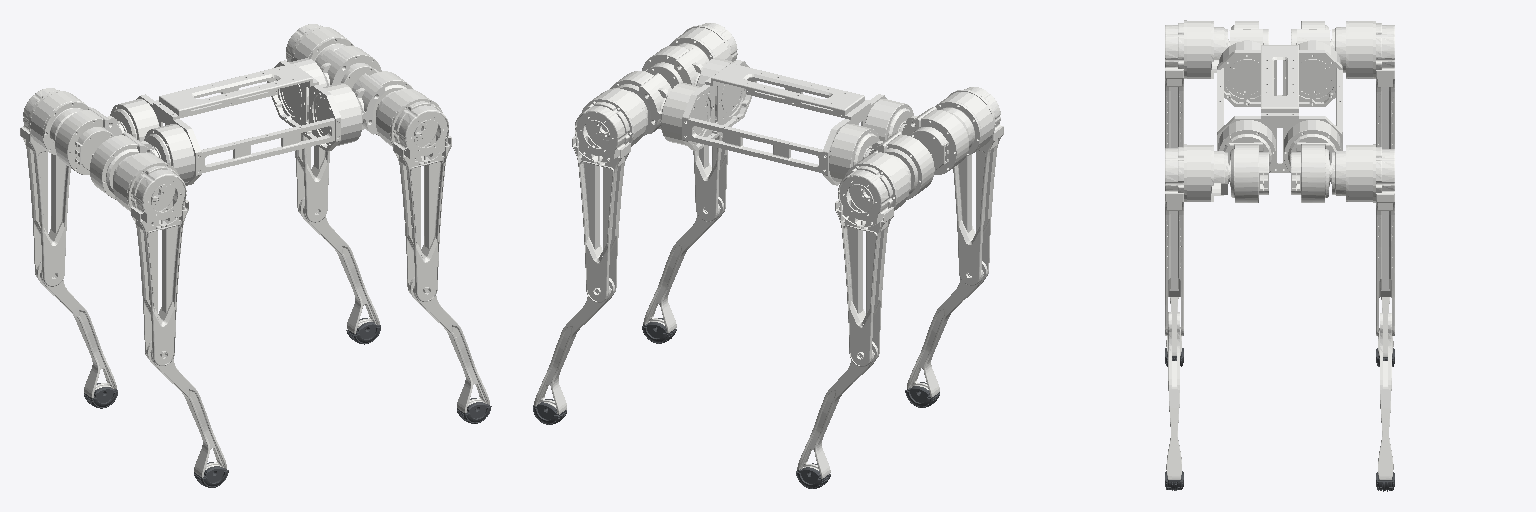
robot.urdf — k3lso_description:
<?xml version="1.0" encoding="utf-8"?>
<!-- This URDF was automatically created by SolidWorks to URDF Exporter! Originally created by [author] ([email redacted]) 
     Commit Version: 1.6.0-1-g15f4949  Build Version: 1.6.7594.29634
     For more information, please see http://wiki.ros.org/sw_urdf_exporter -->
<robot
  name="k3lso_description">
  <link
    name="base_link">
    <visual>
      <origin
        xyz="0 0 0"
        rpy="0 0 0" />
      <geometry>
        <mesh
          filename="package://k3lso_description/meshes/k3lso_v1/body.STL" />
      </geometry>
      <material
        name="">
        <color
          rgba="0.964705882352941 0.964705882352941 0.952941176470588 1" />
      </material>
    </visual>
    <collision>
      <origin
        xyz="0 0 0"
        rpy="0 0 0" />
      <geometry>
        <mesh
          filename="package://k3lso_description/meshes/k3lso_v1/body.STL" />
      </geometry>
    </collision>
  </link>
  <link
    name="abduct_fr">
    <inertial>
      <origin
        xyz="-0.00484231986466119 -0.00125952112498501 0.000189484869132284"
        rpy="0 0 0" />
      <mass
        value="0.396109914280817" />
      <inertia
        ixx="0.00751813161468568"
        ixy="1.4299439250007E-08"
        ixz="3.80854392030588E-08"
        iyy="0.0381266680750878"
        iyz="-1.47763008595493E-08"
        izz="0.0432392503417179" />
    </inertial>
    <visual>
      <origin
        xyz="0 0 0"
        rpy="0 0 0" />
      <geometry>
        <mesh
          filename="package://k3lso_description/meshes/k3lso_v1/abduct_fr.STL" />
      </geometry>
      <material
        name="">
        <color
          rgba="0.964705882352941 0.964705882352941 0.952941176470588 1" />
      </material>
    </visual>
    <collision>
      <origin
        xyz="0 0 0"
        rpy="0 0 0" />
      <geometry>
        <mesh
          filename="package://k3lso_description/meshes/k3lso_v1/abduct_fr.STL" />
      </geometry>
    </collision>
  </link>
  <joint
    name="torso_to_abduct_fr_j"
    type="revolute">
    <origin
      xyz="0.245219923058774 -0.0550000000000008 0"
      rpy="0 0 0" />
    <parent
      link="base_link" />
    <child
      link="abduct_fr" />
    <axis
      xyz="1 0 0" />
    <limit
      lower="-1.5707"
      upper="1.5707"
      effort="0"
      velocity="0" />
  </joint>
  <link
    name="thigh_fr">
    <inertial>
      <origin
        xyz="-0.000478510148912287 0.0311377964359821 -0.030348024981062"
        rpy="0 0 0" />
      <mass
        value="0.546195342680921" />
      <inertia
        ixx="0.00327786490712717"
        ixy="1.11400732695204E-05"
        ixz="1.10174326052676E-05"
        iyy="0.00324140966772312"
        iyz="-0.000512231637706232"
        izz="0.0006679027830657" />
    </inertial>
    <visual>
      <origin
        xyz="0 0 0"
        rpy="0 0 0" />
      <geometry>
        <mesh
          filename="package://k3lso_description/meshes/k3lso_v1/thigh_fr.STL" />
      </geometry>
      <material
        name="">
        <color
          rgba="0.964705882352941 0.964705882352941 0.952941176470588 1" />
      </material>
    </visual>
    <collision>
      <origin
        xyz="0 0 0"
        rpy="0 0 0" />
      <geometry>
        <mesh
          filename="package://k3lso_description/meshes/k3lso_v1/thigh_fr.STL" />
      </geometry>
    </collision>
  </link>
  <joint
    name="abduct_fr_to_thigh_fr_j"
    type="revolute">
    <origin
      xyz="0.000399031232342278 -0.122751810936089 0"
      rpy="0 0 0" />
    <parent
      link="abduct_fr" />
    <child
      link="thigh_fr" />
    <axis
      xyz="0.025727130725705 -0.999669002592669 0" />
    <limit
      lower="-1.5707"
      upper="1.5707"
      effort="0"
      velocity="0" />
  </joint>
  <link
    name="shank_fr">
    <inertial>
      <origin
        xyz="0.0549684892727352 -2.49242758765256E-07 -0.109651744650495"
        rpy="0 0 0" />
      <mass
        value="0.081109998116566" />
      <inertia
        ixx="0.000500231796685866"
        ixy="9.81693631012702E-11"
        ixz="0.000214900791384443"
        iyy="0.000604957980683309"
        iyz="-1.91113326412533E-10"
        izz="0.000110179896832039" />
    </inertial>
    <visual>
      <origin
        xyz="0 0 0"
        rpy="0 0 0" />
      <geometry>
        <mesh
          filename="package://k3lso_description/meshes/k3lso_v1/shank_fr.STL" />
      </geometry>
      <material
        name="">
        <color
          rgba="0.964705882352941 0.964705882352941 0.952941176470588 1" />
      </material>
    </visual>
    <collision>
      <origin
        xyz="0 0 0"
        rpy="0 0 0" />
      <geometry>
        <mesh
          filename="package://k3lso_description/meshes/k3lso_v1/shank_fr.STL" />
      </geometry>
    </collision>
  </link>
  <joint
    name="thigh_fr_to_knee_fr_j"
    type="revolute">
    <origin
      xyz="0.000516157962112795 0.000495229667533292 -0.279146679668012"
      rpy="0 0 0" />
    <parent
      link="thigh_fr" />
    <child
      link="shank_fr" />
    <axis
      xyz="0 -0.999995417642509 0.00302732455888055" />
    <limit
      lower="-1.5707"
      upper="1.5707"
      effort="0"
      velocity="0" />
  </joint>
  <link
    name="toe_fr">
    <inertial>
      <origin
        xyz="0.000608731407316154 6.84552792562521E-07 -0.00856256526660643"
        rpy="0 0 0" />
      <mass
        value="0.0300759767291781" />
      <inertia
        ixx="4.27926359049145E-06"
        ixy="-1.32414223538088E-12"
        ixz="-1.59157747831505E-07"
        iyy="7.11974474670345E-06"
        iyz="-5.74123400586303E-13"
        izz="7.11269700903231E-06" />
    </inertial>
    <visual>
      <origin
        xyz="0 0 0"
        rpy="0 0 0" />
      <geometry>
        <mesh
          filename="package://k3lso_description/meshes/k3lso_v1/toe_fr.STL" />
      </geometry>
      <material
        name="">
        <color
          rgba="0.388235294117647 0.4 0.415686274509804 1" />
      </material>
    </visual>
    <collision>
      <origin
        xyz="0 0 0"
        rpy="0 0 0" />
      <geometry>
        <mesh
          filename="package://k3lso_description/meshes/k3lso_v1/toe_fr.STL" />
      </geometry>
    </collision>
  </link>
  <joint
    name="toe_fr_joint"
    type="fixed">
    <origin
      xyz="0.0953906355422662 0 -0.235215459960343"
      rpy="0 0 0" />
    <parent
      link="shank_fr" />
    <child
      link="toe_fr" />
    <axis
      xyz="0 0 0" />
  </joint>
  <link
    name="abduct_fl">
    <inertial>
      <origin
        xyz="-0.00484226474047186 0.00125953471432366 0.00018950660465375"
        rpy="0 0 0" />
      <mass
        value="0.396109199116923" />
      <inertia
        ixx="0.00031603387487169"
        ixy="-4.25044180958937E-06"
        ixz="4.8900552845955E-06"
        iyy="0.000502098660532483"
        iyz="3.11178329361914E-07"
        izz="0.000371664860478397" />
    </inertial>
    <visual>
      <origin
        xyz="0 0 0"
        rpy="0 0 0" />
      <geometry>
        <mesh
          filename="package://k3lso_description/meshes/k3lso_v1/abduct_fl.STL" />
      </geometry>
      <material
        name="">
        <color
          rgba="0.964705882352941 0.964705882352941 0.952941176470588 1" />
      </material>
    </visual>
    <collision>
      <origin
        xyz="0 0 0"
        rpy="0 0 0" />
      <geometry>
        <mesh
          filename="package://k3lso_description/meshes/k3lso_v1/abduct_fl.STL" />
      </geometry>
    </collision>
  </link>
  <joint
    name="torso_to_abduct_fl_j"
    type="revolute">
    <origin
      xyz="0.245219923058774 0.0549999999999968 0"
      rpy="0 0 0" />
    <parent
      link="base_link" />
    <child
      link="abduct_fl" />
    <axis
      xyz="1 0 0" />
    <limit
      lower="-1.5707"
      upper="1.5707"
      effort="0"
      velocity="0" />
  </joint>
  <link
    name="thigh_fl">
    <inertial>
      <origin
        xyz="0.000315058821563435 -0.031126278080156 -0.0306587245367596"
        rpy="0 0 0" />
      <mass
        value="0.546697211873335" />
      <inertia
        ixx="0.00330479941946454"
        ixy="6.65268519093769E-06"
        ixz="-1.43340571640754E-06"
        iyy="0.00326908997472768"
        iyz="0.00051835895621716"
        izz="0.000668809439333965" />
    </inertial>
    <visual>
      <origin
        xyz="0 0 0"
        rpy="0 0 0" />
      <geometry>
        <mesh
          filename="package://k3lso_description/meshes/k3lso_v1/thigh_fl.STL" />
      </geometry>
      <material
        name="">
        <color
          rgba="0.964705882352941 0.964705882352941 0.952941176470588 1" />
      </material>
    </visual>
    <collision>
      <origin
        xyz="0 0 0"
        rpy="0 0 0" />
      <geometry>
        <mesh
          filename="package://k3lso_description/meshes/k3lso_v1/thigh_fl.STL" />
      </geometry>
    </collision>
  </link>
  <joint
    name="abduct_fl_to_thigh_fl_j"
    type="revolute">
    <origin
      xyz="0 0.122751810936103 0"
      rpy="0 0 0" />
    <parent
      link="abduct_fl" />
    <child
      link="thigh_fl" />
    <axis
      xyz="0 -1 0" />
    <limit
      lower="-1.5707"
      upper="1.5707"
      effort="0"
      velocity="0" />
  </joint>
  <link
    name="shank_fl">
    <inertial>
      <origin
        xyz="0.0549684891728376 2.09404099865695E-07 -0.10971351531058"
        rpy="0 0 0" />
      <mass
        value="0.0811099978666444" />
      <inertia
        ixx="0.000500231792331512"
        ixy="9.81980796948803E-11"
        ixz="0.000214900790630476"
        iyy="0.000604957976199982"
        iyz="-1.91276046322402E-10"
        izz="0.000110179896698955" />
    </inertial>
    <visual>
      <origin
        xyz="0 0 0"
        rpy="0 0 0" />
      <geometry>
        <mesh
          filename="package://k3lso_description/meshes/k3lso_v1/shank_fl.STL" />
      </geometry>
      <material
        name="">
        <color
          rgba="0.964705882352941 0.964705882352941 0.952941176470588 1" />
      </material>
    </visual>
    <collision>
      <origin
        xyz="0 0 0"
        rpy="0 0 0" />
      <geometry>
        <mesh
          filename="package://k3lso_description/meshes/k3lso_v1/shank_fl.STL" />
      </geometry>
    </collision>
  </link>
  <joint
    name="thigh_fl_to_knee_fl_j"
    type="revolute">
    <origin
      xyz="-0.000117126729800715 -0.000495229625122662 -0.280219911004513"
      rpy="0 0 0" />
    <parent
      link="thigh_fl" />
    <child
      link="shank_fl" />
    <axis
      xyz="0 -0.999995417642509 0.00302732455888036" />
    <limit
      lower="-1.5707"
      upper="1.5707"
      effort="0"
      velocity="0" />
  </joint>
  <link
    name="toe_fl">
    <inertial>
      <origin
        xyz="0.00110075637665802 1.62257132702015E-07 -0.00945860206234855"
        rpy="0 0 0" />
      <mass
        value="0.0300759865662061" />
      <inertia
        ixx="4.31018518816081E-06"
        ixy="-1.43843774054927E-12"
        ixz="-3.34651009328234E-07"
        iyy="7.1197446054938E-06"
        iyz="3.05793178852857E-13"
        izz="7.08177615639163E-06" />
    </inertial>
    <visual>
      <origin
        xyz="0 0 0"
        rpy="0 0 0" />
      <geometry>
        <mesh
          filename="package://k3lso_description/meshes/k3lso_v1/toe_fl.STL" />
      </geometry>
      <material
        name="">
        <color
          rgba="0.388235294117647 0.4 0.415686274509804 1" />
      </material>
    </visual>
    <collision>
      <origin
        xyz="0 0 0"
        rpy="0 0 0" />
      <geometry>
        <mesh
          filename="package://k3lso_description/meshes/k3lso_v1/toe_fl.STL" />
      </geometry>
    </collision>
  </link>
  <joint
    name="toe_fl_joint"
    type="fixed">
    <origin
      xyz="0.0953906355410575 0 -0.234338180039215"
      rpy="0 0 0" />
    <parent
      link="shank_fl" />
    <child
      link="toe_fl" />
    <axis
      xyz="0 0 0" />
  </joint>
  <link
    name="abduct_hr">
    <inertial>
      <origin
        xyz="0.00484226493526946 -0.00125953471373114 0.000189502216548926"
        rpy="0 0 0" />
      <mass
        value="0.396109199127274" />
      <inertia
        ixx="0.000316033889085991"
        ixy="-4.25044064960815E-06"
        ixz="-4.88996418333182E-06"
        iyy="0.000502098610857557"
        iyz="-3.11204445520268E-07"
        izz="0.000371664796600426" />
    </inertial>
    <visual>
      <origin
        xyz="0 0 0"
        rpy="0 0 0" />
      <geometry>
        <mesh
          filename="package://k3lso_description/meshes/k3lso_v1/abduct_hr.STL" />
      </geometry>
      <material
        name="">
        <color
          rgba="0.964705882352941 0.964705882352941 0.952941176470588 1" />
      </material>
    </visual>
    <collision>
      <origin
        xyz="0 0 0"
        rpy="0 0 0" />
      <geometry>
        <mesh
          filename="package://k3lso_description/meshes/k3lso_v1/abduct_hr.STL" />
      </geometry>
    </collision>
  </link>
  <joint
    name="torso_to_abduct_hr_j"
    type="revolute">
    <origin
      xyz="-0.245219923058766 -0.0550000000000008 0"
      rpy="0 0 0" />
    <parent
      link="base_link" />
    <child
      link="abduct_hr" />
    <axis
      xyz="1 0 0" />
    <limit
      lower="-1.5707"
      upper="1.5707"
      effort="0"
      velocity="0" />
  </joint>
  <link
    name="thigh_hr">
    <inertial>
      <origin
        xyz="-0.000478515004623314 0.0311377971218236 -0.0303480277915815"
        rpy="0 0 0" />
      <mass
        value="0.546195331504141" />
      <inertia
        ixx="0.0032778639422384"
        ixy="1.1140042232062E-05"
        ixz="1.10173134586132E-05"
        iyy="0.00324140863037604"
        iyz="-0.000512231550981055"
        izz="0.000667902683181184" />
    </inertial>
    <visual>
      <origin
        xyz="0 0 0"
        rpy="0 0 0" />
      <geometry>
        <mesh
          filename="package://k3lso_description/meshes/k3lso_v1/thigh_hr.STL" />
      </geometry>
      <material
        name="">
        <color
          rgba="0.964705882352941 0.964705882352941 0.952941176470588 1" />
      </material>
    </visual>
    <collision>
      <origin
        xyz="0 0 0"
        rpy="0 0 0" />
      <geometry>
        <mesh
          filename="package://k3lso_description/meshes/k3lso_v1/thigh_hr.STL" />
      </geometry>
    </collision>
  </link>
  <joint
    name="abduct_hr_to_thigh_hr_j"
    type="revolute">
    <origin
      xyz="0.000399028675898028 -0.122751810936089 0"
      rpy="0 0 0" />
    <parent
      link="abduct_hr" />
    <child
      link="thigh_hr" />
    <axis
      xyz="0.0257269660103994 -0.999669006831711 0" />
    <limit
      lower="-1.5707"
      upper="1.5707"
      effort="0"
      velocity="0" />
  </joint>
  <link
    name="shank_hr">
    <inertial>
      <origin
        xyz="0.054968489493814 -2.49213132741399E-07 -0.109651744219478"
        rpy="0 0 0" />
      <mass
        value="0.0811099978056902" />
      <inertia
        ixx="0.00050023179653929"
        ixy="9.80751279109067E-11"
        ixz="0.000214900794486329"
        iyy="0.000604957982563406"
        iyz="-1.90716904791229E-10"
        izz="0.000110179898875315" />
    </inertial>
    <visual>
      <origin
        xyz="0 0 0"
        rpy="0 0 0" />
      <geometry>
        <mesh
          filename="package://k3lso_description/meshes/k3lso_v1/shank_hr.STL" />
      </geometry>
      <material
        name="">
        <color
          rgba="0.964705882352941 0.964705882352941 0.952941176470588 1" />
      </material>
    </visual>
    <collision>
      <origin
        xyz="0 0 0"
        rpy="0 0 0" />
      <geometry>
        <mesh
          filename="package://k3lso_description/meshes/k3lso_v1/shank_hr.STL" />
      </geometry>
    </collision>
  </link>
  <joint
    name="thigh_hr_to_knee_hr_j"
    type="revolute">
    <origin
      xyz="0.000516155405661634 0.000495229656711615 -0.279146686817303"
      rpy="0 0 0" />
    <parent
      link="thigh_hr" />
    <child
      link="shank_hr" />
    <axis
      xyz="0 -0.999995417642509 0.00302732455888076" />
    <limit
      lower="-1.5707"
      upper="1.5707"
      effort="0"
      velocity="0" />
  </joint>
  <link
    name="toe_hr">
    <inertial>
      <origin
        xyz="0.000608731467646423 6.84550471974354E-07 -0.00856256520641324"
        rpy="0 0 0" />
      <mass
        value="0.0300759763632581" />
      <inertia
        ixx="4.27926356475535E-06"
        ixy="-1.3252584193167E-12"
        ixz="-1.59157756406523E-07"
        iyy="7.11974466355619E-06"
        iyz="-5.73174029252813E-13"
        izz="7.11269694703716E-06" />
    </inertial>
    <visual>
      <origin
        xyz="0 0 0"
        rpy="0 0 0" />
      <geometry>
        <mesh
          filename="package://k3lso_description/meshes/k3lso_v1/toe_hr.STL" />
      </geometry>
      <material
        name="">
        <color
          rgba="0.388235294117647 0.4 0.415686274509804 1" />
      </material>
    </visual>
    <collision>
      <origin
        xyz="0 0 0"
        rpy="0 0 0" />
      <geometry>
        <mesh
          filename="package://k3lso_description/meshes/k3lso_v1/toe_hr.STL" />
      </geometry>
    </collision>
  </link>
  <joint
    name="toe_hr_joint"
    type="fixed">
    <origin
      xyz="0.0953906355422661 0 -0.235215460118963"
      rpy="0 0 0" />
    <parent
      link="shank_hr" />
    <child
      link="toe_hr" />
    <axis
      xyz="0 0 0" />
  </joint>
  <link
    name="abduct_hl">
    <inertial>
      <origin
        xyz="0.0048423085989609 0.00125951974571897 0.000189500189855751"
        rpy="0 0 0" />
      <mass
        value="0.396109867124066" />
      <inertia
        ixx="0.000316034471773063"
        ixy="4.25070597099692E-06"
        ixz="-4.89007903698079E-06"
        iyy="0.000502099144759616"
        iyz="3.11106992655994E-07"
        izz="0.000371665058066423" />
    </inertial>
    <visual>
      <origin
        xyz="0 0 0"
        rpy="0 0 0" />
      <geometry>
        <mesh
          filename="package://k3lso_description/meshes/k3lso_v1/abduct_hl.STL" />
      </geometry>
      <material
        name="">
        <color
          rgba="0.964705882352941 0.964705882352941 0.952941176470588 1" />
      </material>
    </visual>
    <collision>
      <origin
        xyz="0 0 0"
        rpy="0 0 0" />
      <geometry>
        <mesh
          filename="package://k3lso_description/meshes/k3lso_v1/abduct_hl.STL" />
      </geometry>
    </collision>
  </link>
  <joint
    name="torso_to_abduct_hl_j"
    type="revolute">
    <origin
      xyz="-0.245219923058766 0.0549999999999967 0"
      rpy="0 0 0" />
    <parent
      link="base_link" />
    <child
      link="abduct_hl" />
    <axis
      xyz="1 0 0" />
    <limit
      lower="-1.5707"
      upper="1.5707"
      effort="0"
      velocity="0" />
  </joint>
  <link
    name="thigh_hl">
    <inertial>
      <origin
        xyz="0.000315053104781249 -0.0311262780768579 -0.0306587178828229"
        rpy="0 0 0" />
      <mass
        value="0.546697211960175" />
      <inertia
        ixx="0.00330479942127368"
        ixy="6.65268518437835E-06"
        ixz="-1.43340574098979E-06"
        iyy="0.00326908997650796"
        iyz="0.000518358956480012"
        izz="0.000668809439398849" />
    </inertial>
    <visual>
      <origin
        xyz="0 0 0"
        rpy="0 0 0" />
      <geometry>
        <mesh
          filename="package://k3lso_description/meshes/k3lso_v1/thigh_hl.STL" />
      </geometry>
      <material
        name="">
        <color
          rgba="0.964705882352941 0.964705882352941 0.952941176470588 1" />
      </material>
    </visual>
    <collision>
      <origin
        xyz="0 0 0"
        rpy="0 0 0" />
      <geometry>
        <mesh
          filename="package://k3lso_description/meshes/k3lso_v1/thigh_hl.STL" />
      </geometry>
    </collision>
  </link>
  <joint
    name="abduct_hl_to_thigh_hl_j"
    type="revolute">
    <origin
      xyz="0 0.122751810936103 0"
      rpy="0 0 0" />
    <parent
      link="abduct_hl" />
    <child
      link="thigh_hl" />
    <axis
      xyz="0 -1 0" />
    <limit
      lower="-1.5707"
      upper="1.5707"
      effort="0"
      velocity="0" />
  </joint>
  <link
    name="shank_hl">
    <inertial>
      <origin
        xyz="0.054968489273299 2.09459003530643E-07 -0.109713502042612"
        rpy="0 0 0" />
      <mass
        value="0.0811099983335731" />
      <inertia
        ixx="0.000500231796978427"
        ixy="9.81623478600195E-11"
        ixz="0.000214900791481848"
        iyy="0.000604957981009322"
        iyz="-1.91081947735809E-10"
        izz="0.000110179896877307" />
    </inertial>
    <visual>
      <origin
        xyz="0 0 0"
        rpy="0 0 0" />
      <geometry>
        <mesh
          filename="package://k3lso_description/meshes/k3lso_v1/shank_hl.STL" />
      </geometry>
      <material
        name="">
        <color
          rgba="0.964705882352941 0.964705882352941 0.952941176470588 1" />
      </material>
    </visual>
    <collision>
      <origin
        xyz="0 0 0"
        rpy="0 0 0" />
      <geometry>
        <mesh
          filename="package://k3lso_description/meshes/k3lso_v1/shank_hl.STL" />
      </geometry>
    </collision>
  </link>
  <joint
    name="thigh_hl_to_knee_hl_j"
    type="revolute">
    <origin
      xyz="-0.000117132446322166 -0.000495229656806734 -0.280219918153741"
      rpy="0 0 0" />
    <parent
      link="thigh_hl" />
    <child
      link="shank_hl" />
    <axis
      xyz="0 -0.999995417642509 0.00302732455888008" />
    <limit
      lower="-1.5707"
      upper="1.5707"
      effort="0"
      velocity="0" />
  </joint>
  <link
    name="toe_hl">
    <inertial>
      <origin
        xyz="0.000608731421308628 1.65516653910514E-07 -0.00950160245008813"
        rpy="0 0 0" />
      <mass
        value="0.0300759767291783" />
      <inertia
        ixx="4.27926359049146E-06"
        ixy="-1.3241428819059E-12"
        ixz="-1.5915774783151E-07"
        iyy="7.11974474670349E-06"
        iyz="-5.74123437979157E-13"
        izz="7.11269700903236E-06" />
    </inertial>
    <visual>
      <origin
        xyz="0 0 0"
        rpy="0 0 0" />
      <geometry>
        <mesh
          filename="package://k3lso_description/meshes/k3lso_v1/toe_hl.STL" />
      </geometry>
      <material
        name="">
        <color
          rgba="0.388235294117647 0.4 0.415686274509804 1" />
      </material>
    </visual>
    <collision>
      <origin
        xyz="0 0 0"
        rpy="0 0 0" />
      <geometry>
        <mesh
          filename="package://k3lso_description/meshes/k3lso_v1/toe_hl.STL" />
      </geometry>
    </collision>
  </link>
  <joint
    name="toe_hl_joint"
    type="fixed">
    <origin
      xyz="0.0953906355410606 0 -0.234338180197893"
      rpy="0 0 0" />
    <parent
      link="shank_hl" />
    <child
      link="toe_hl" />
    <axis
      xyz="0 0 0" />
  </joint>
</robot>

--- What the picture shows (computed from the rendered views, not written in the file) ---
The picture shows the robot from 3 angles, left to right: view 1: azimuth 30°, elevation 25°; view 2: azimuth 150°, elevation 25°; view 3: azimuth 270°, elevation 25°; orthographic projection.
Model k3lso_description with 17 links and 16 joints (12 revolute, 4 fixed), rooted at base_link, posed every joint at zero.
Links seen in each view (by area): view 1: base_link, thigh_fr, thigh_hr, thigh_hl, thigh_fl, abduct_hl, shank_hr, shank_hl, shank_fl, shank_fr, abduct_hr, abduct_fl (+1 smaller); view 2: base_link, thigh_fl, thigh_hl, thigh_hr, thigh_fr, abduct_hr, shank_fr, shank_hl, shank_fl, shank_hr, abduct_hl, abduct_fr (+1 smaller); view 3: base_link, thigh_fr, thigh_fl, thigh_hl, thigh_hr, abduct_fr, abduct_fl, shank_fr, shank_fl, abduct_hr, abduct_hl.
Link boxes in pixels (x1=…): base_link: x1=110, y1=58, x2=362, y2=185; thigh_fr: x1=376, y1=89, x2=451, y2=301; thigh_hr: x1=113, y1=153, x2=188, y2=365; thigh_hl: x1=20, y1=88, x2=88, y2=286; thigh_fl: x1=286, y1=24, x2=353, y2=222; abduct_hl: x1=55, y1=107, x2=124, y2=174; shank_hr: x1=146, y1=341, x2=226, y2=477; shank_hl: x1=36, y1=262, x2=116, y2=397; shank_fl: x1=299, y1=197, x2=379, y2=333; shank_fr: x1=409, y1=277, x2=489, y2=412; abduct_hr: x1=90, y1=132, x2=158, y2=199; abduct_fl: x1=317, y1=46, x2=381, y2=88; base_link: x1=661, y1=58, x2=913, y2=185; thigh_fl: x1=572, y1=88, x2=647, y2=302; thigh_hl: x1=835, y1=152, x2=910, y2=366; thigh_hr: x1=935, y1=87, x2=1003, y2=285; thigh_fr: x1=669, y1=23, x2=737, y2=221; abduct_hr: x1=899, y1=107, x2=968, y2=174; shank_fr: x1=643, y1=197, x2=723, y2=332; shank_hl: x1=797, y1=341, x2=877, y2=478; shank_fl: x1=534, y1=278, x2=614, y2=414; shank_hr: x1=907, y1=261, x2=987, y2=397; abduct_hl: x1=865, y1=132, x2=934, y2=199; abduct_fr: x1=642, y1=46, x2=705, y2=88; base_link: x1=1217, y1=41, x2=1342, y2=172; thigh_fr: x1=1165, y1=144, x2=1228, y2=335; thigh_fl: x1=1331, y1=144, x2=1394, y2=335; thigh_hl: x1=1331, y1=21, x2=1394, y2=148; thigh_hr: x1=1165, y1=20, x2=1228, y2=147; abduct_fr: x1=1229, y1=142, x2=1268, y2=202; abduct_fl: x1=1291, y1=142, x2=1330, y2=202; shank_fr: x1=1166, y1=312, x2=1181, y2=479; shank_fl: x1=1378, y1=313, x2=1393, y2=479; abduct_hr: x1=1229, y1=21, x2=1268, y2=45; abduct_hl: x1=1291, y1=21, x2=1330, y2=45.
Size in the robot's own frame: 0.6626 by 0.3869 by 0.6067 metres.
17 mesh visuals loaded from 17 distinct referenced files (17 binary STL).
